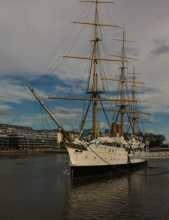fanchuan: (40, 1, 154, 176)
